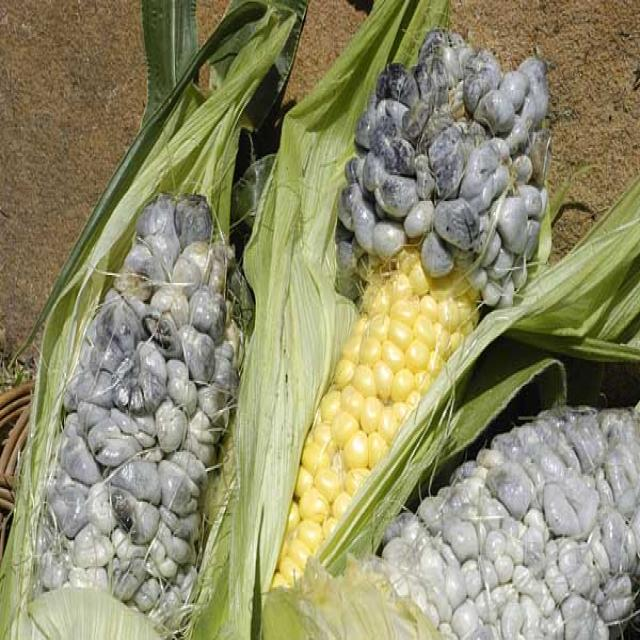Leaf_Scald: (8, 134, 274, 626), (298, 19, 605, 340), (341, 378, 639, 640)
